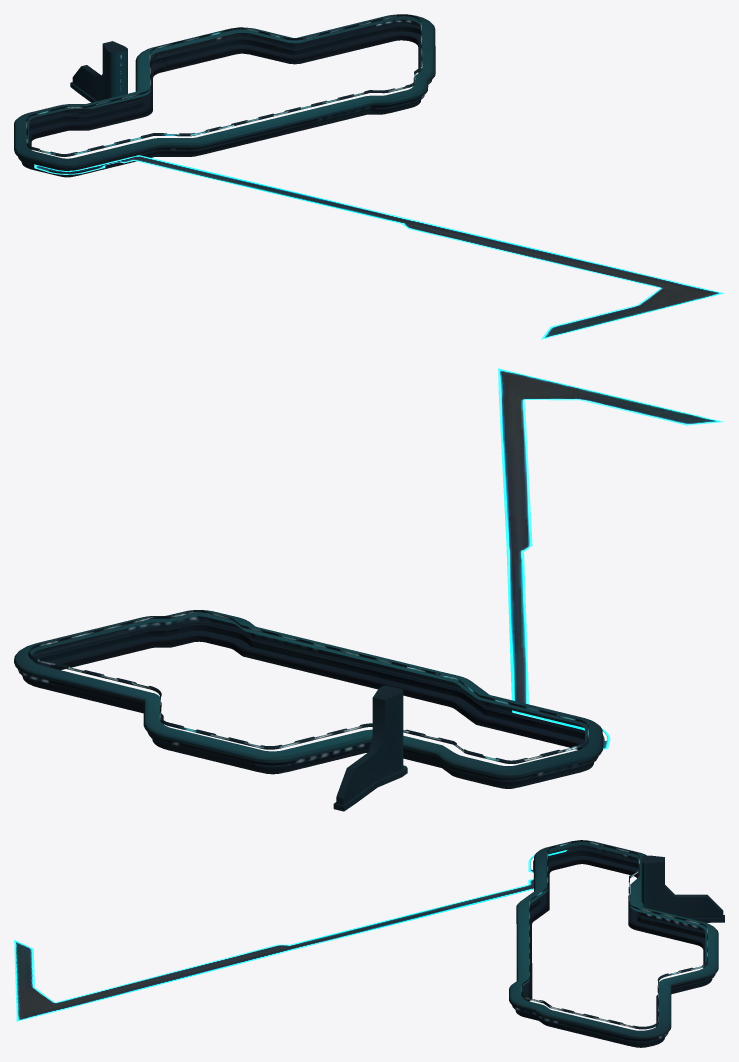
The picture shows the model from 3 angles, top to bottom: view 1: azimuth 30°, elevation 25°; view 2: azimuth 150°, elevation 25°; view 3: azimuth 270°, elevation 25°; orthographic projection. The views are drawn at different scales.
Visible parts, largest first — view 1: light_cycle_arena1; view 2: light_cycle_arena1; view 3: light_cycle_arena1.
Boxes of the visible parts, x1,y1,x2,y2 form: light_cycle_arena1: (14, 14, 724, 339); light_cycle_arena1: (14, 368, 724, 811); light_cycle_arena1: (14, 840, 724, 1047).
Bounding box in the file's own units: 984 × 143 × 1502.
Materials: 1 (1 with a texture image).
